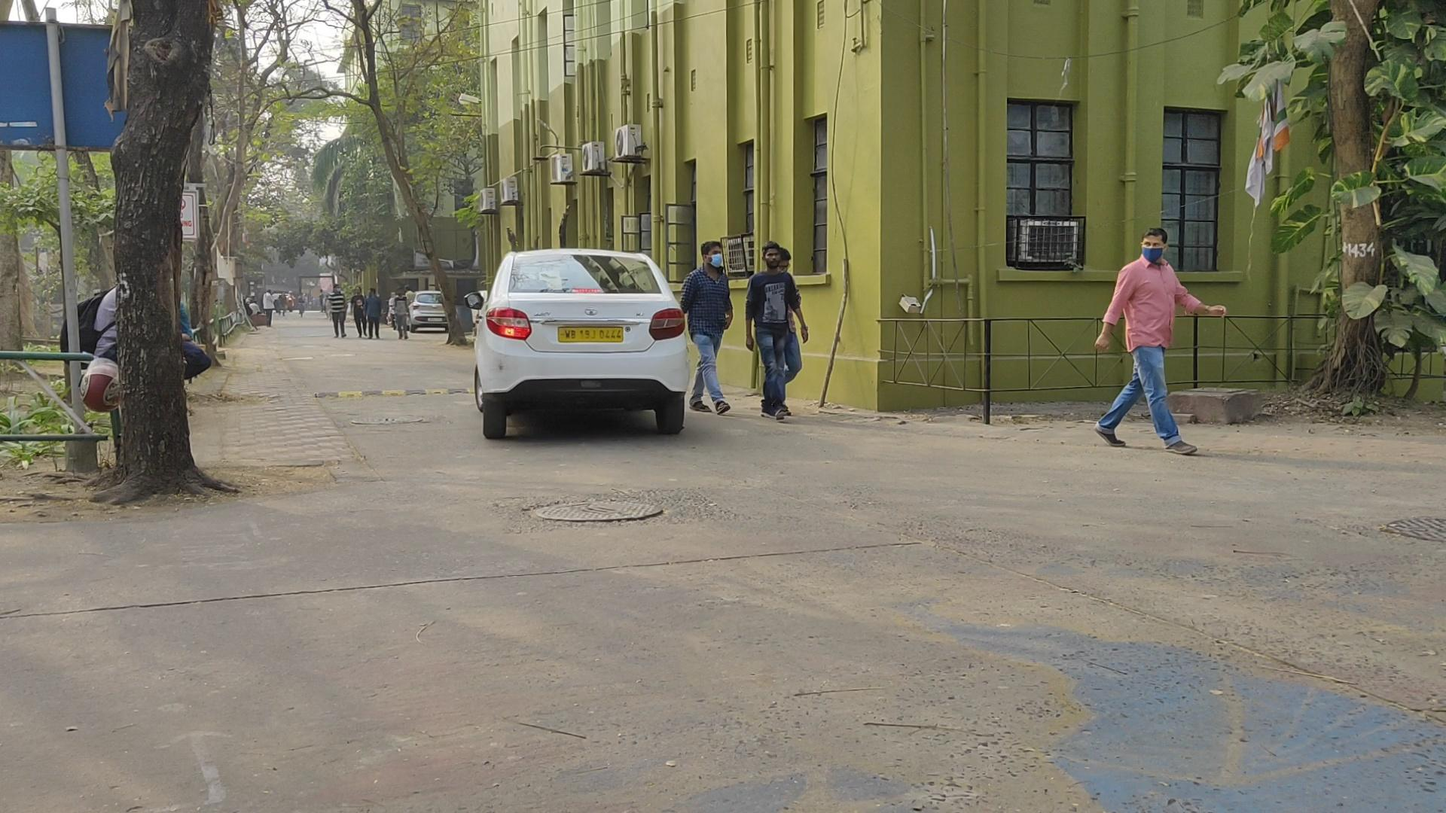car: (472, 248, 690, 443), (407, 290, 450, 333)
